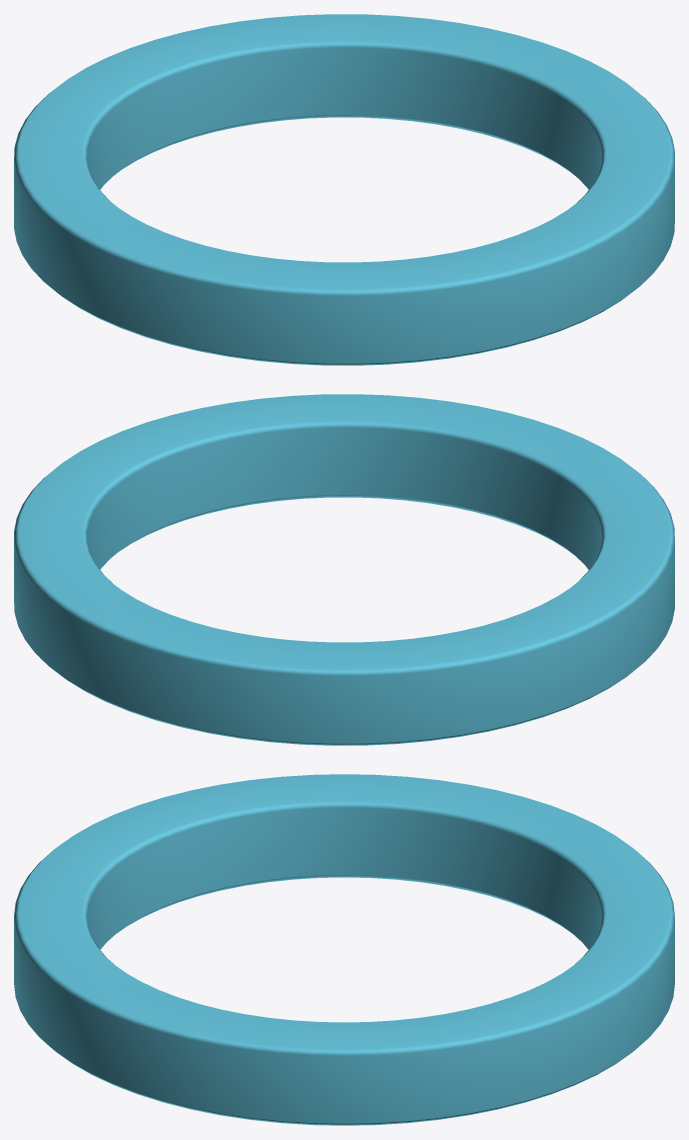
3 renders of one model, top to bottom at view 1: azimuth 30°, elevation 25°; view 2: azimuth 150°, elevation 25°; view 3: azimuth 270°, elevation 25°, orthographic.
Visible parts, largest first — view 1: seal_body; view 2: seal_body; view 3: seal_body.
Part boxes in pixels (box(x1,y1,x2,y2)): seal_body: box(14, 14, 674, 365); seal_body: box(14, 394, 674, 745); seal_body: box(14, 774, 674, 1125).
Bounding box in the file's own units: 0.09 × 0.0115 × 0.09.
